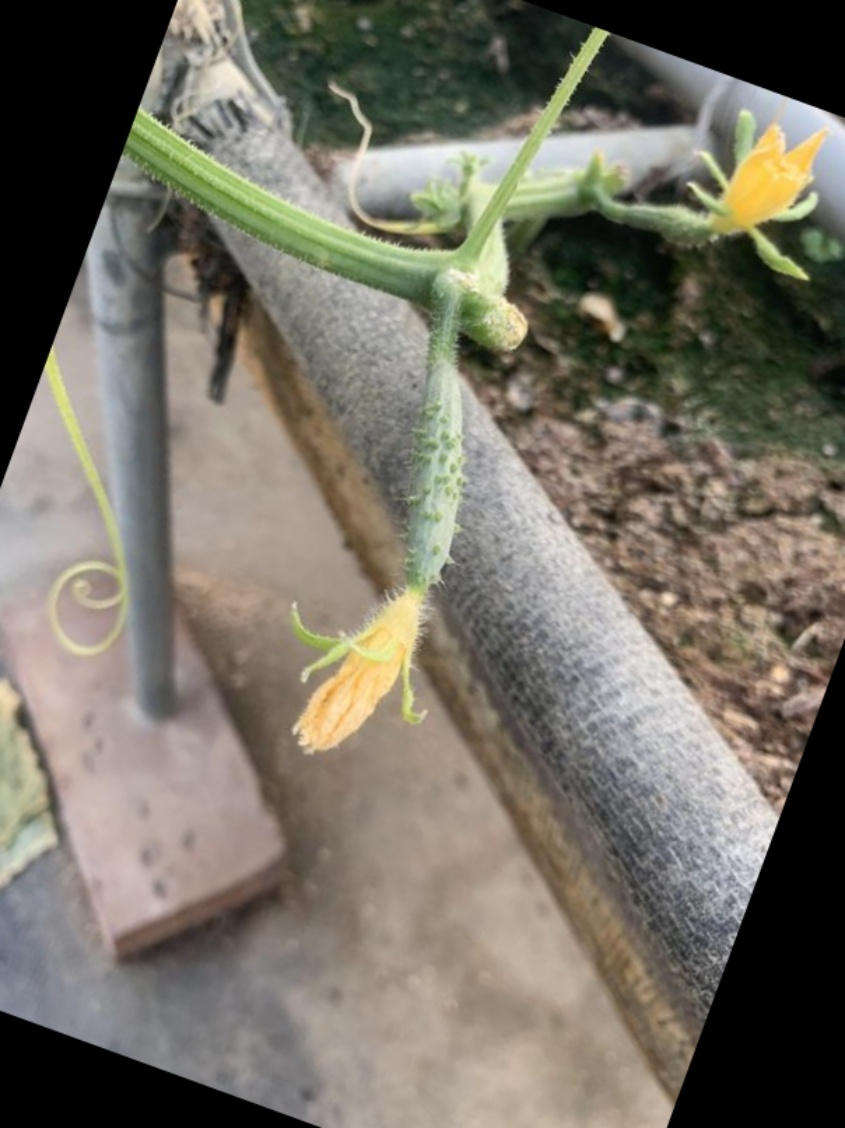bear: (582, 106, 827, 287)
